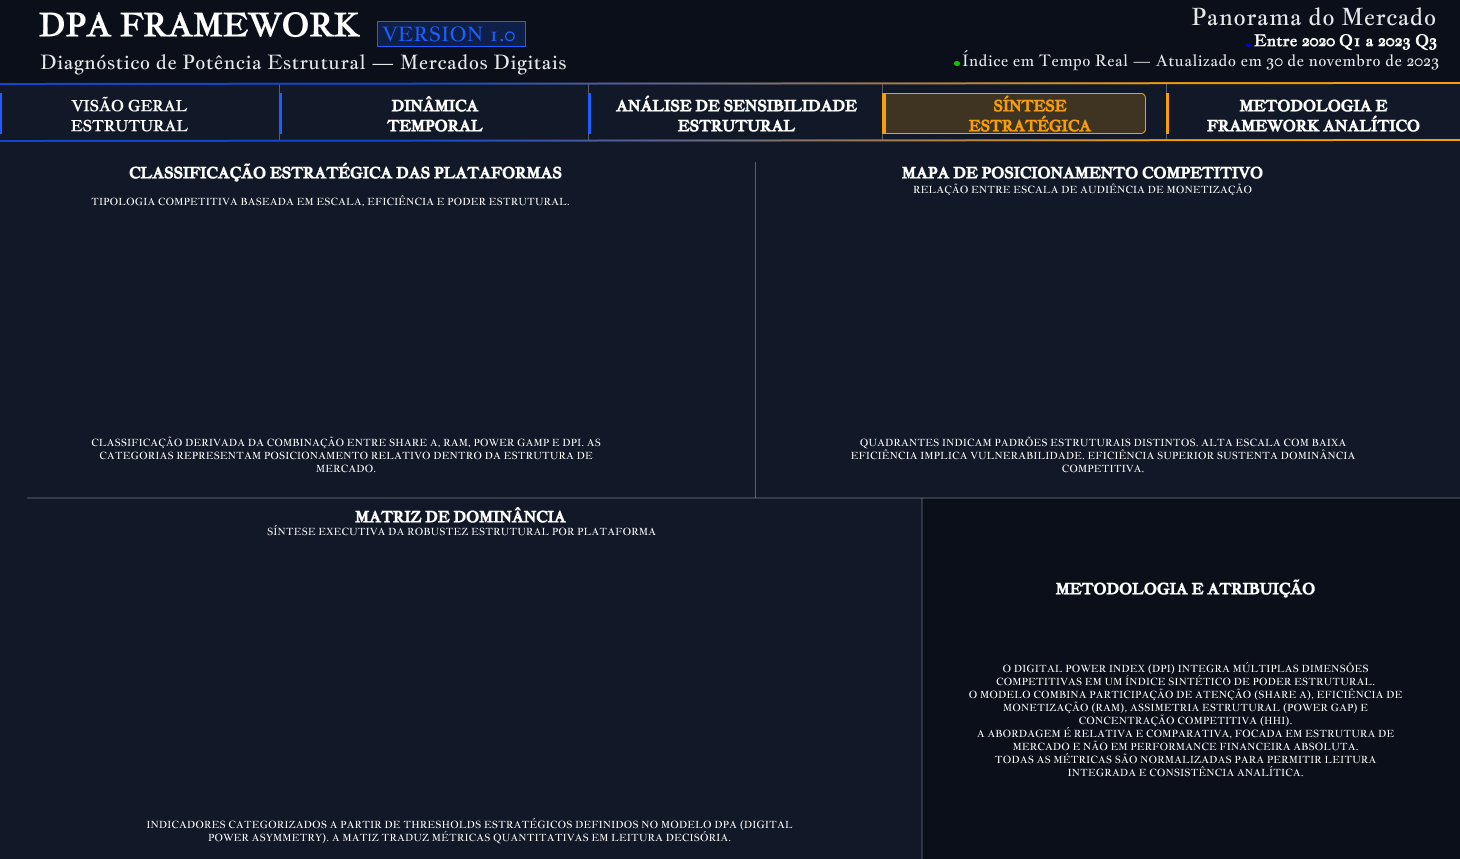

Layout of this report page (visuals, bound fields, positions):
{"tool":"powerbi","page":{"name":"SÍNTESE ESTRATÉGICA","canvas":[1460,859],"ordinal":3},"visuals":[{"type":"tableEx","fields":{"Values":["DIM_PLATAFORMA.Plataforma","FATO_USUARIOS_TRIMESTRAL.Share_A","FATO_USUARIOS_TRIMESTRAL.RAM","FATO_USUARIOS_TRIMESTRAL.Power Gap","FATO_USUARIOS_TRIMESTRAL.DPI Score (0-100)"]},"box":[57.1,211.4,590,220],"z":0},{"type":"scatterChart","fields":{"X":["FATO_USUARIOS_TRIMESTRAL.Share_A"],"Y":["FATO_USUARIOS_TRIMESTRAL.RAM"],"Series":["DIM_PLATAFORMA.Plataforma"]},"box":[802.9,191.4,581.4,235.7],"z":1000},{"type":"tableEx","fields":{"Values":["DIM_PLATAFORMA.Plataforma","FATO_USUARIOS_TRIMESTRAL.Escala","FATO_USUARIOS_TRIMESTRAL.Eficiência","FATO_USUARIOS_TRIMESTRAL.Assimetria","FATO_USUARIOS_TRIMESTRAL.Poder","FATO_USUARIOS_TRIMESTRAL.Status Competitivo"]},"box":[127.1,570,697.1,202.9],"z":1001}]}

Visuals, with their boxes on the page's 1460x859 design canvas (x1, y1, x2, y2). These are canvas units, not pixel positions in the 1460x859 screenshot, which may show the page scaled, cropped or inside an application window:
tableEx - DIM_PLATAFORMA.Plataforma x FATO_USUARIOS_TRIMESTRAL.Share_A: 57/211/647/431
scatterChart - FATO_USUARIOS_TRIMESTRAL.Share_A x FATO_USUARIOS_TRIMESTRAL.RAM: 803/191/1384/427
tableEx - DIM_PLATAFORMA.Plataforma x FATO_USUARIOS_TRIMESTRAL.Escala: 127/570/824/773
